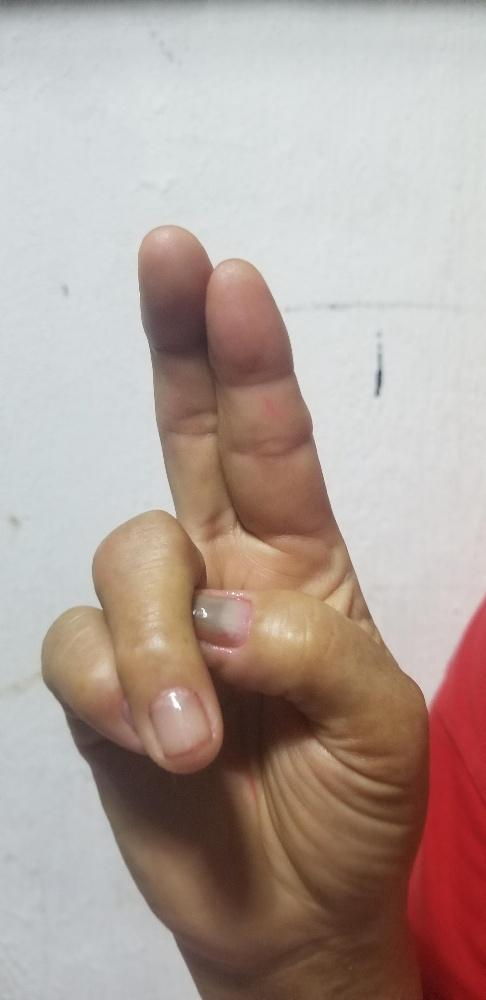r: (37, 222, 434, 943)
